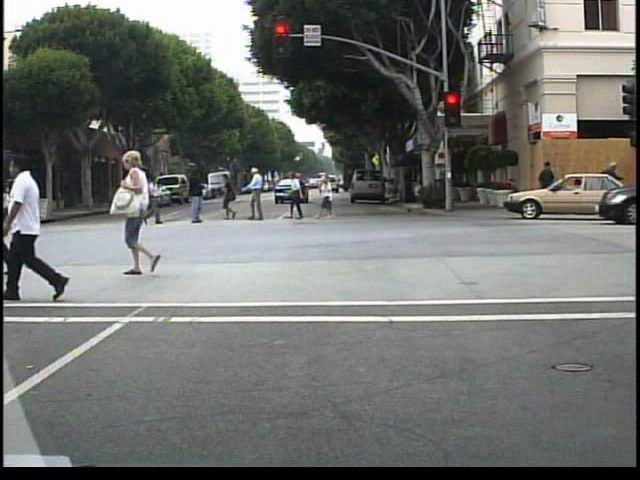person: (38, 152, 109, 299), (112, 150, 175, 280), (244, 166, 275, 222), (181, 169, 209, 228), (219, 168, 243, 224), (597, 156, 620, 213), (287, 169, 311, 223), (144, 171, 165, 226), (537, 157, 557, 212), (4, 183, 24, 235), (17, 194, 39, 239)
